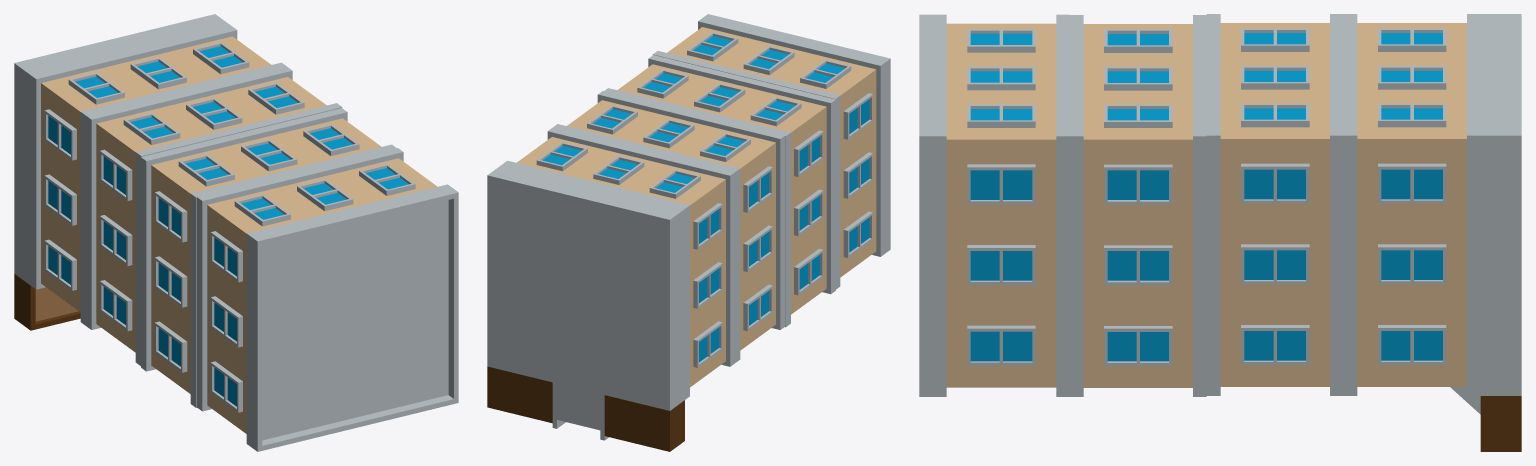
File: tinker.obj
3 renders of one model, left to right at view 1: azimuth 30°, elevation 25°; view 2: azimuth 150°, elevation 25°; view 3: azimuth 270°, elevation 25°, orthographic. The views are drawn at different scales.
Parts seen in each view (by area): view 1: obj_3, obj_0, obj_1, obj_2; view 2: obj_0, obj_3, obj_1, obj_2; view 3: obj_0, obj_3, obj_1, obj_2.
Part boxes in pixels (x1,y1,x2,y2): obj_3: (197,148,458,451); obj_0: (14,14,286,330); obj_1: (86,66,342,365); obj_2: (141,108,396,407); obj_0: (487,127,735,451); obj_3: (652,14,890,289); obj_1: (553,91,785,362); obj_2: (604,55,835,327); obj_0: (1343,14,1521,451); obj_3: (919,14,1069,396); obj_1: (1206,14,1343,395); obj_2: (1070,15,1206,396).
Bounding box in the file's own units: 42.14 × 52 × 88.
